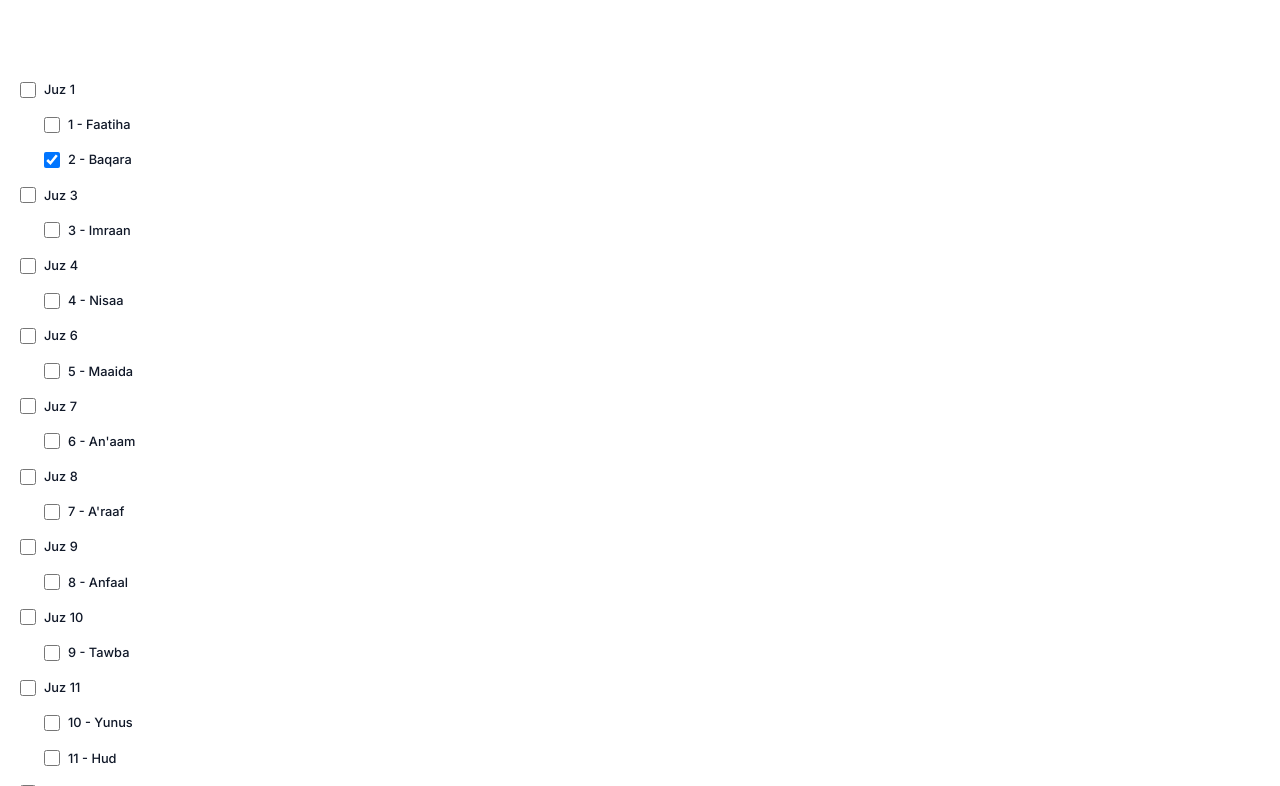
Test case: Add Quran card form › Submitting › Wihout juz › should not reset form when error is thrown with no response
The width and height of the screenshot is (1280, 786).
Click the checkbox with test id "quran-checkbox-input": [28, 195] box [20,187,36,203]
(page scrolled)
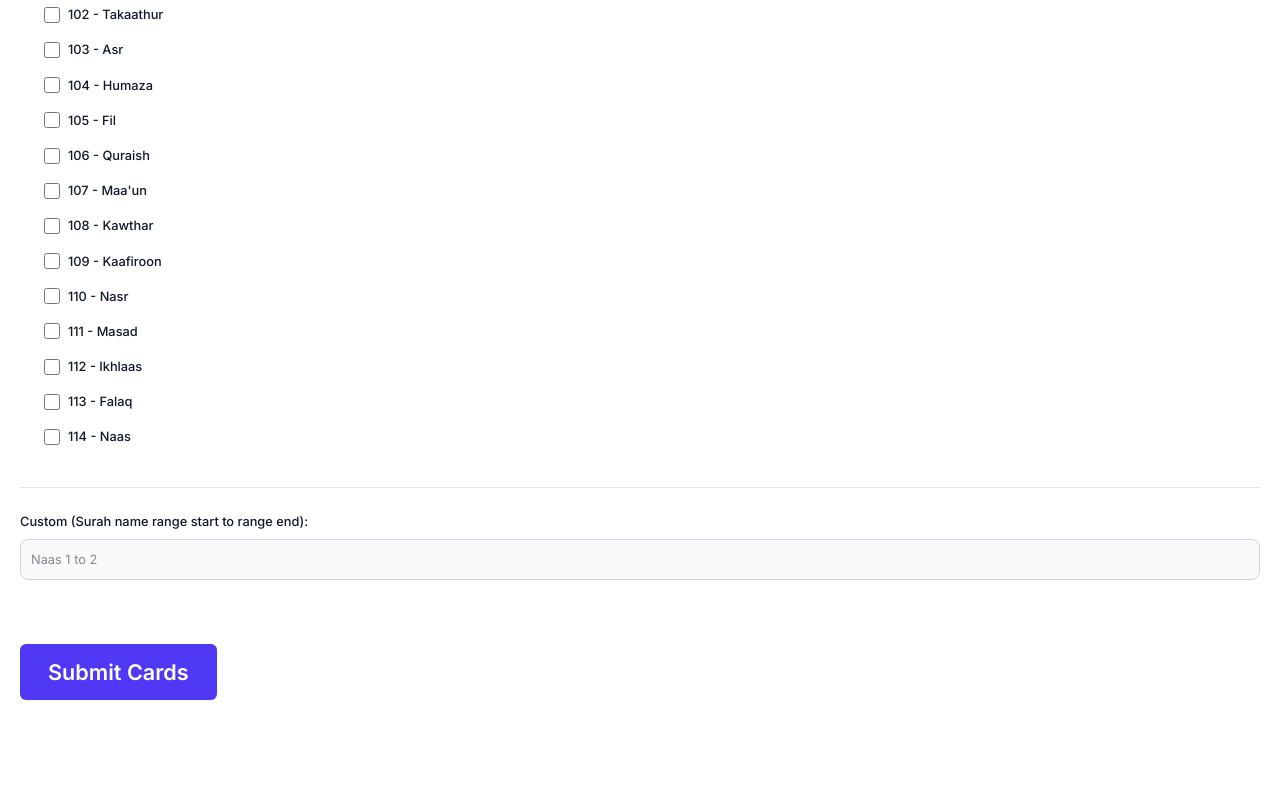
Click the button with test id "add-cards-submit-button": [118, 672] box [20,644,217,700]
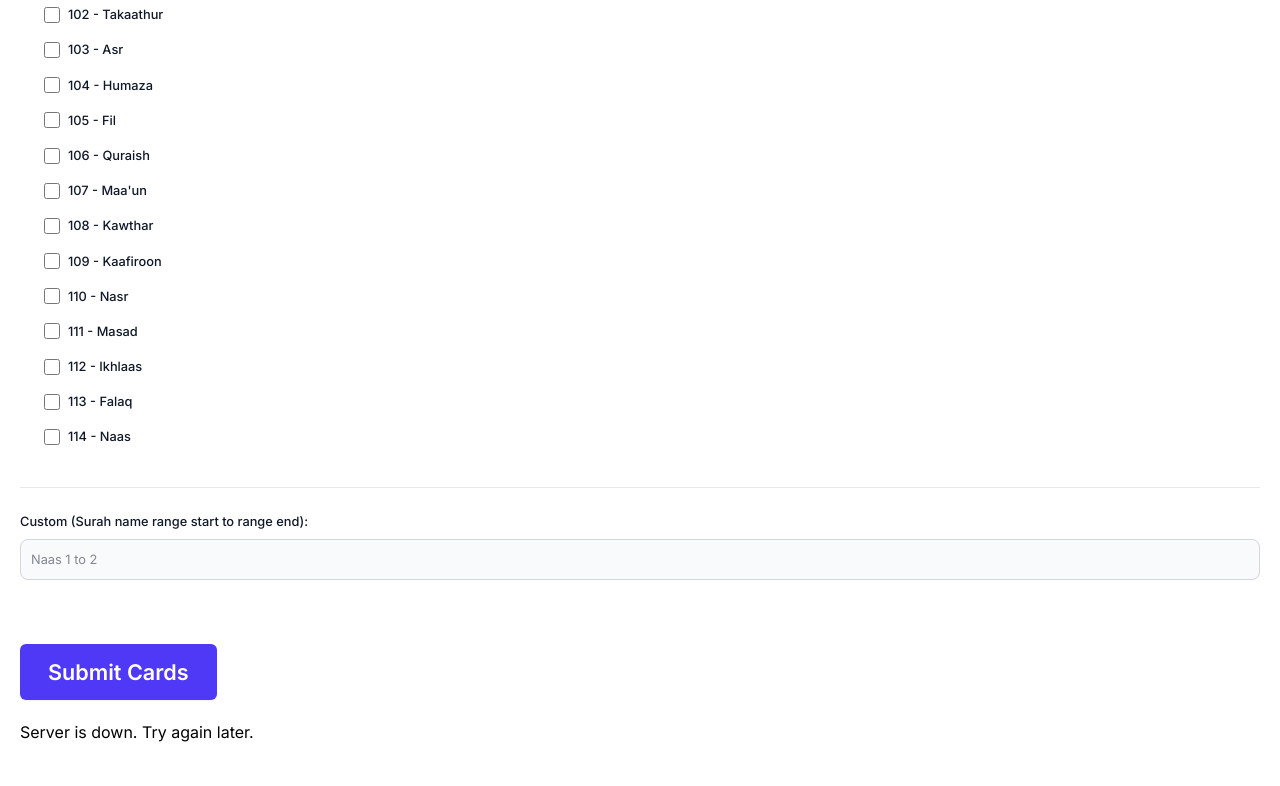
Expected: the text "Server is down. Try again later." is shown, [20,722,254,742]
